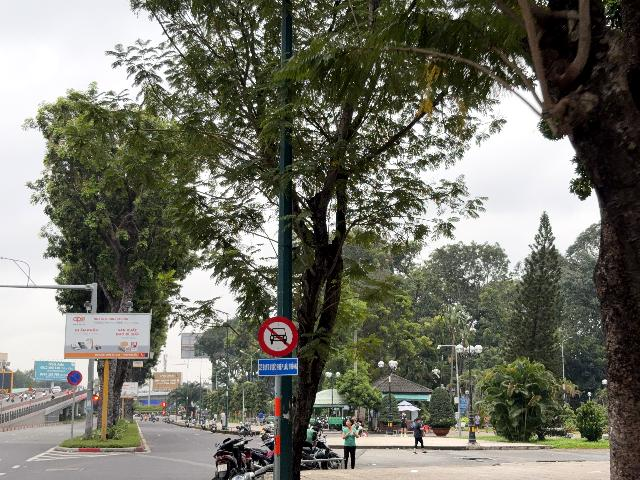cam-o-to: (258, 316, 298, 357)
